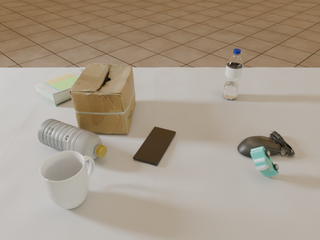book: (35, 68, 85, 107)
bottle: (38, 119, 107, 161), (222, 49, 243, 100)
box: (69, 63, 135, 134)
cup: (40, 151, 95, 209)
mouse: (238, 130, 295, 158)
phone: (133, 127, 176, 166)
toy_car: (251, 147, 279, 177)
